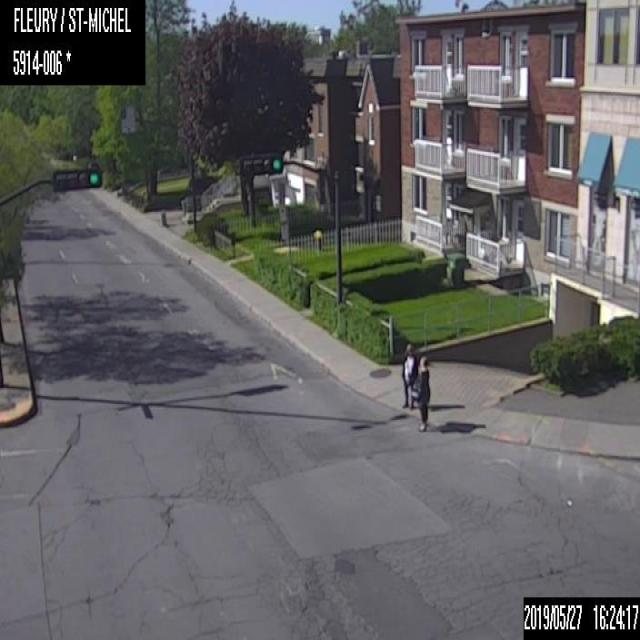pedestrian: (410, 353, 431, 431), (400, 342, 417, 410)
